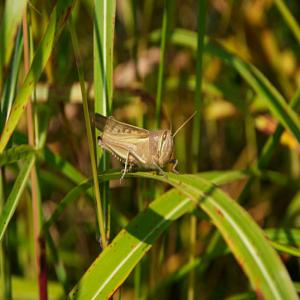locust: (87, 98, 199, 193)
